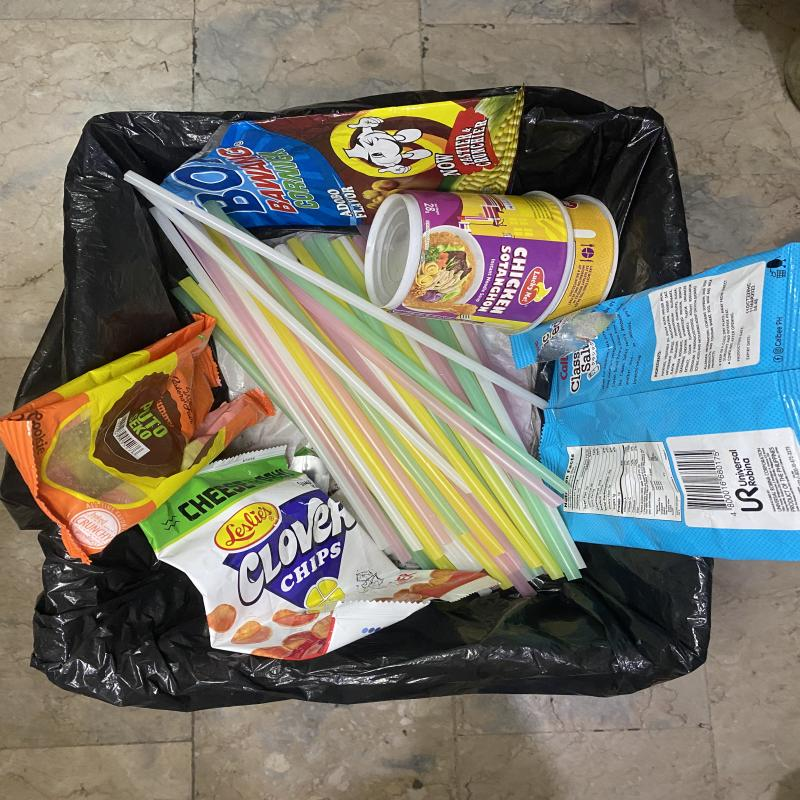food wrapper: (511, 241, 800, 563), (135, 447, 496, 661), (0, 313, 276, 563), (164, 88, 524, 241), (168, 301, 173, 312), (234, 455, 237, 456)
plastic container: (361, 188, 616, 333)
plastic straw: (126, 171, 549, 412), (157, 206, 478, 500), (151, 207, 394, 555), (267, 266, 570, 510), (267, 261, 574, 496), (221, 266, 426, 552), (250, 298, 447, 568), (444, 318, 589, 569), (448, 358, 582, 582), (389, 379, 538, 577), (353, 392, 472, 535), (454, 432, 562, 580)
